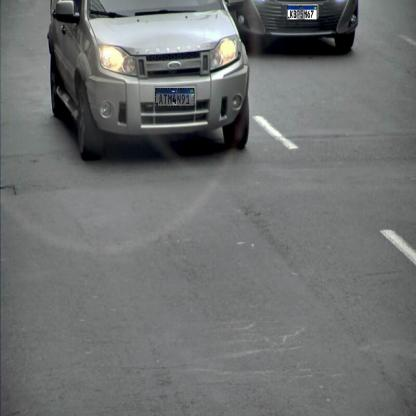PlacaM: (155, 88, 194, 107), (287, 6, 317, 20)
